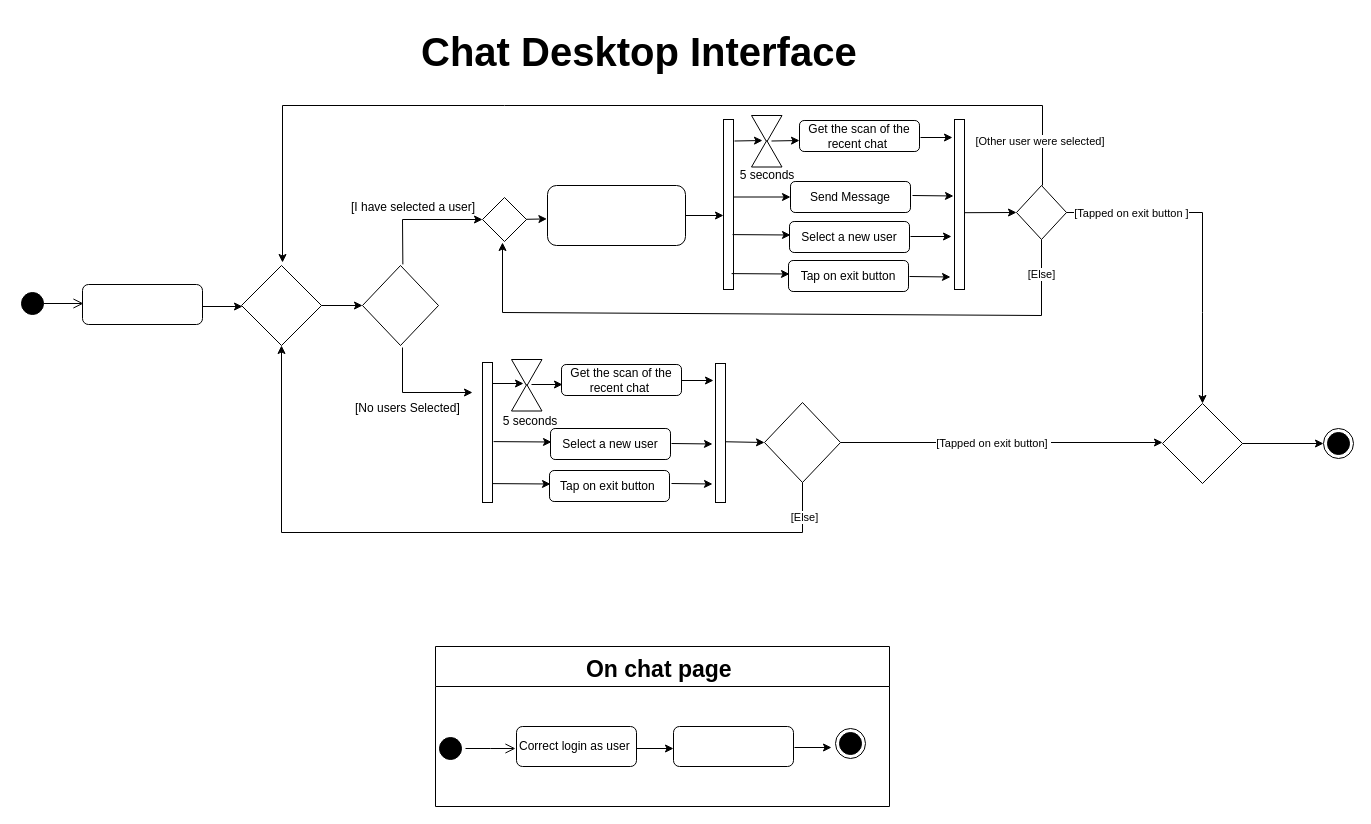
Some shapes in this 1371 by 824 pixel diagram are drawn without their labels. Each missing label, with the centre of its shape:
Load or update the selected user's chat: (616,215)
On chat page*: (142,304)
Tap on a user's chat or tap on chat button: (733,746)
